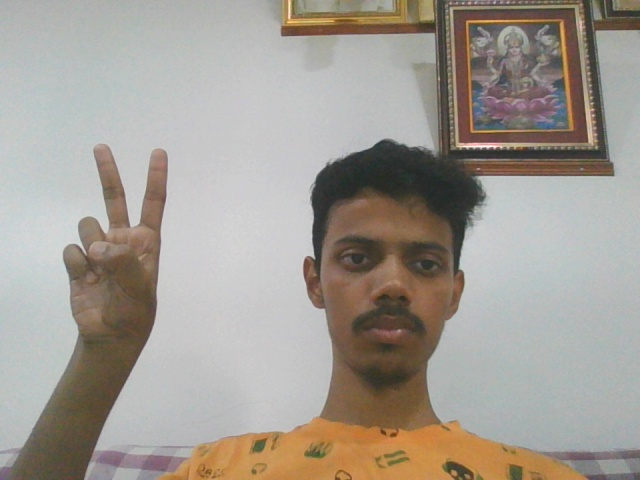Peace: (62, 143, 170, 340)
